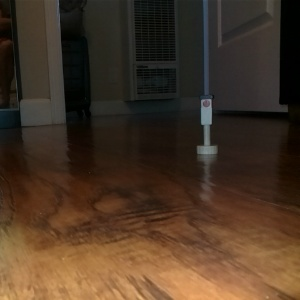traffic light red: (195, 93, 219, 156)
